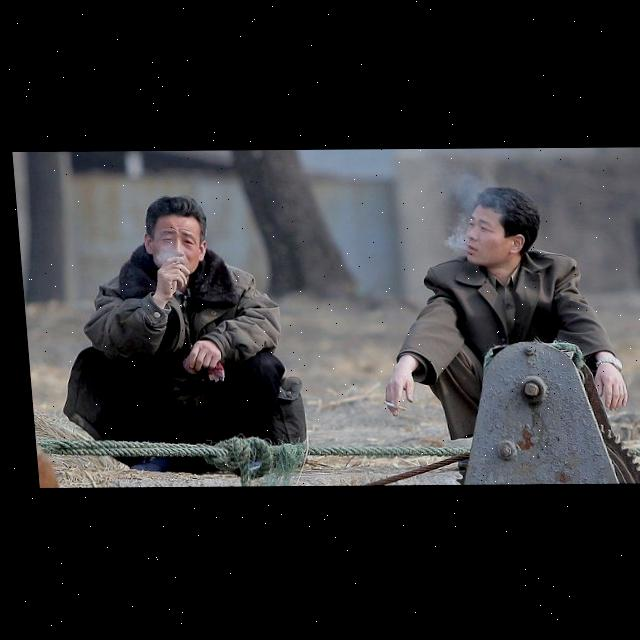cigarette: (377, 402, 401, 412), (172, 261, 176, 265)
